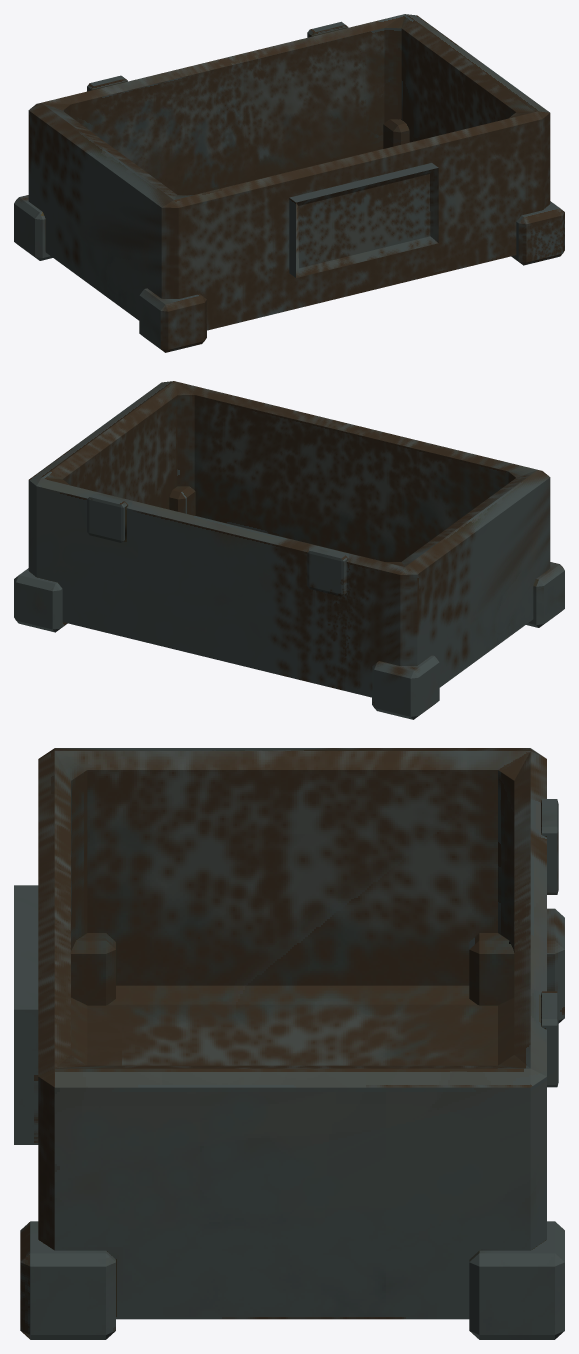
Rendered from bau.glb.
3 views of the same model, one above another, from view 1: azimuth 30°, elevation 25°; view 2: azimuth 150°, elevation 25°; view 3: azimuth 270°, elevation 25° (orthographic). The views are drawn at different scales.
Visible parts, largest first — view 1: bau; view 2: bau; view 3: bau.
Part boxes in pixels (x1,y1,x2,y2): bau: [14, 14, 564, 352]; bau: [14, 381, 564, 719]; bau: [14, 748, 564, 1339].
Bounding box in the file's own units: 3.32 × 1.13 × 2.19.
Materials: 1 (1 with a texture image).
